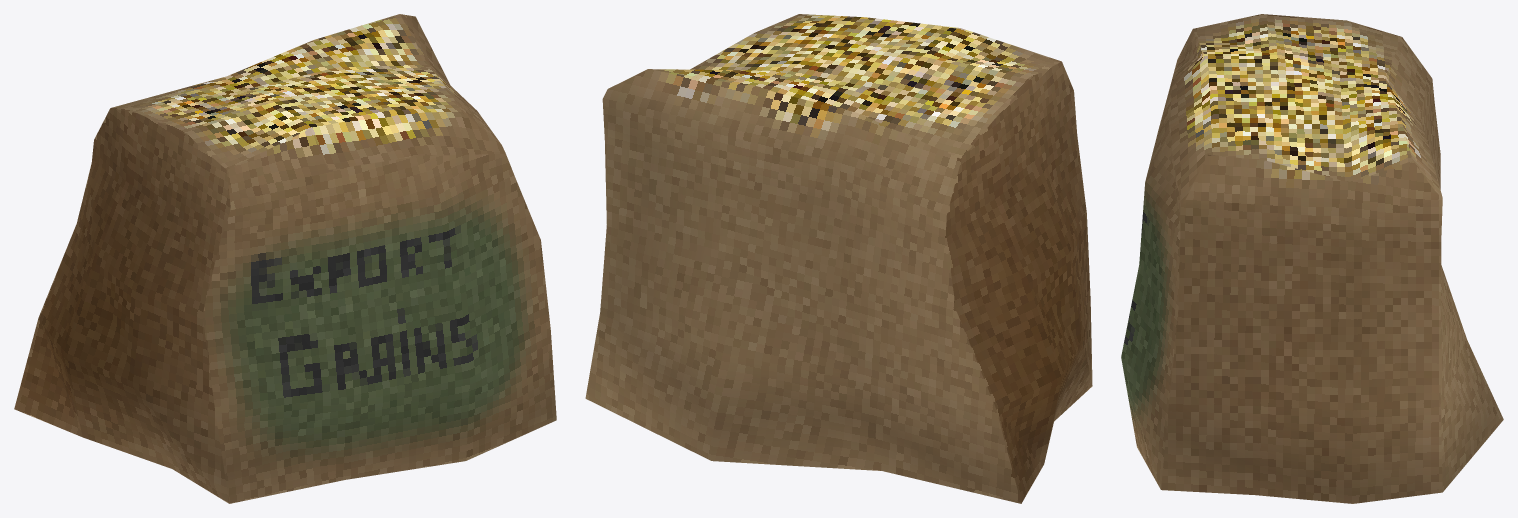
The model's file is Grain-Sac_1.gltf.
The picture shows the model from 3 angles, left to right: view 1: azimuth 30°, elevation 25°; view 2: azimuth 150°, elevation 25°; view 3: azimuth 270°, elevation 25°; orthographic projection. The views are drawn at different scales.
Parts seen in each view (by area): view 1: Grain-Sac_1; view 2: Grain-Sac_1; view 3: Grain-Sac_1.
Boxes of the visible parts, x1=… form: Grain-Sac_1: x1=14, y1=14, x2=556, y2=503; Grain-Sac_1: x1=585, y1=14, x2=1092, y2=503; Grain-Sac_1: x1=1121, y1=14, x2=1503, y2=503.
Size of the model in its own units: 2.7 by 1.97 by 2.07.
Materials: 1 (1 with a texture image).
